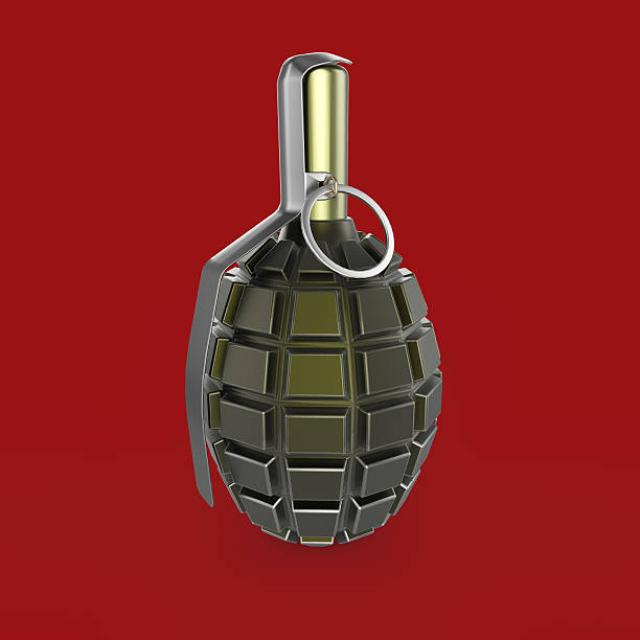grenade: (176, 40, 448, 562)
